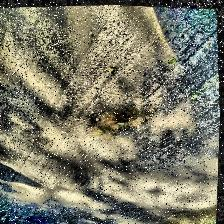pothole: (72, 99, 150, 151)
